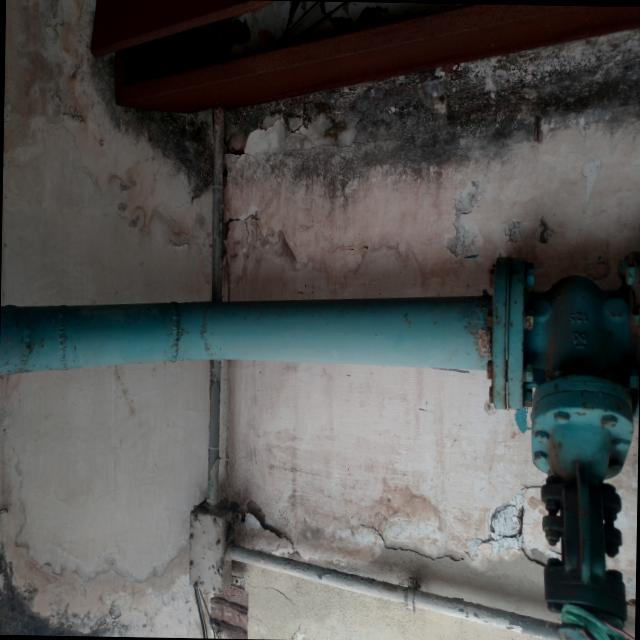gas: (29, 294, 634, 367)
